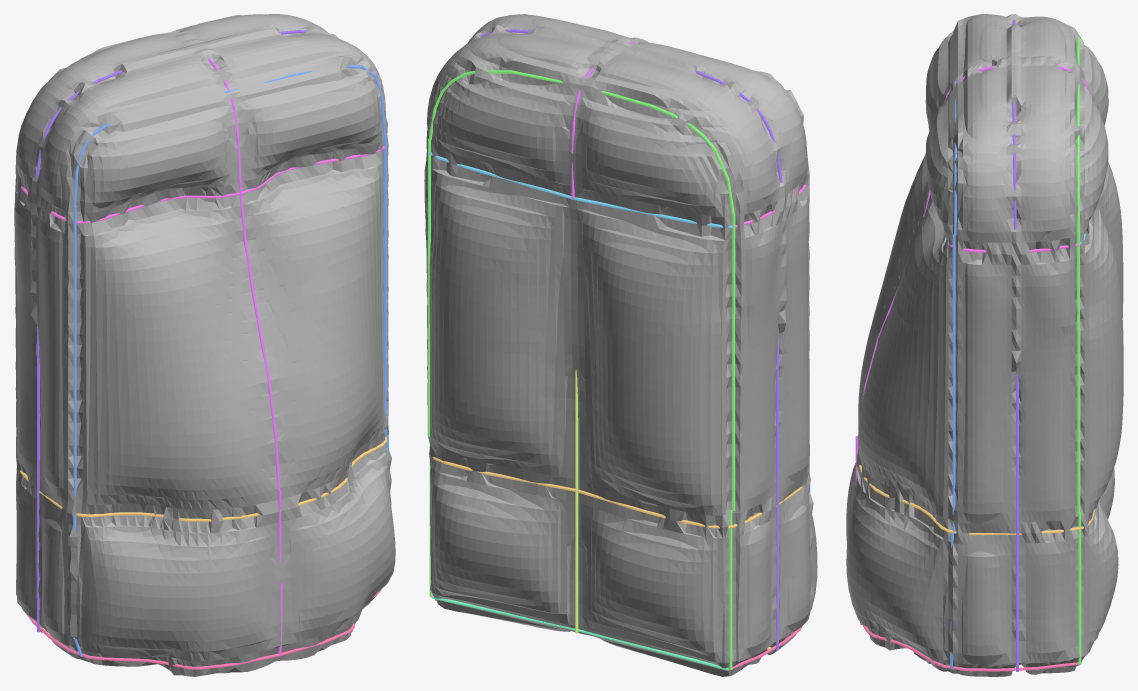
3 views of the same model, side by side, from view 1: azimuth 30°, elevation 25°; view 2: azimuth 150°, elevation 25°; view 3: azimuth 270°, elevation 25° (orthographic). The views are drawn at different scales.
Bounding box in the file's own units: 0.5136 × 0.827 × 0.3759.
